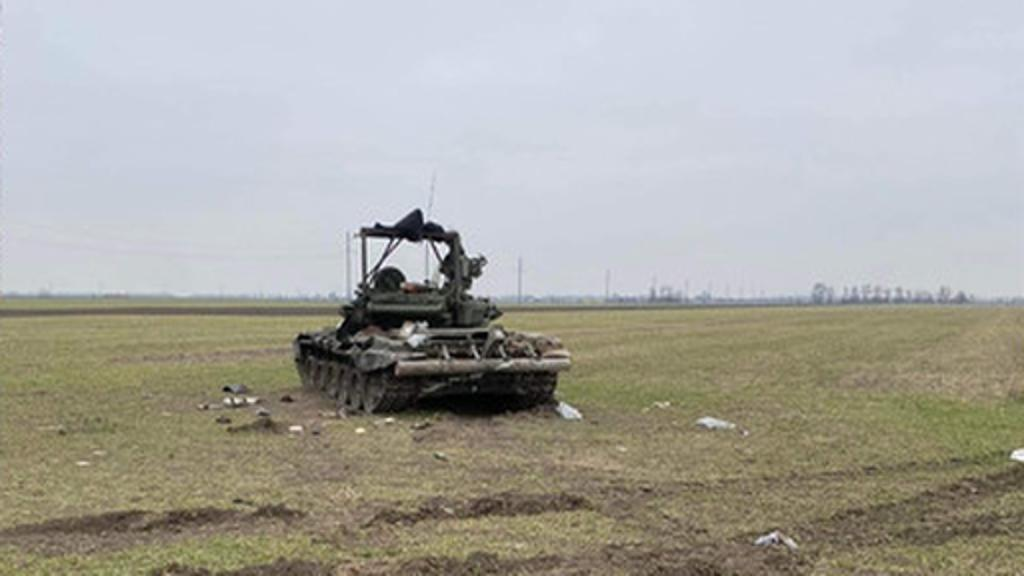TANK: (284, 210, 582, 428)
